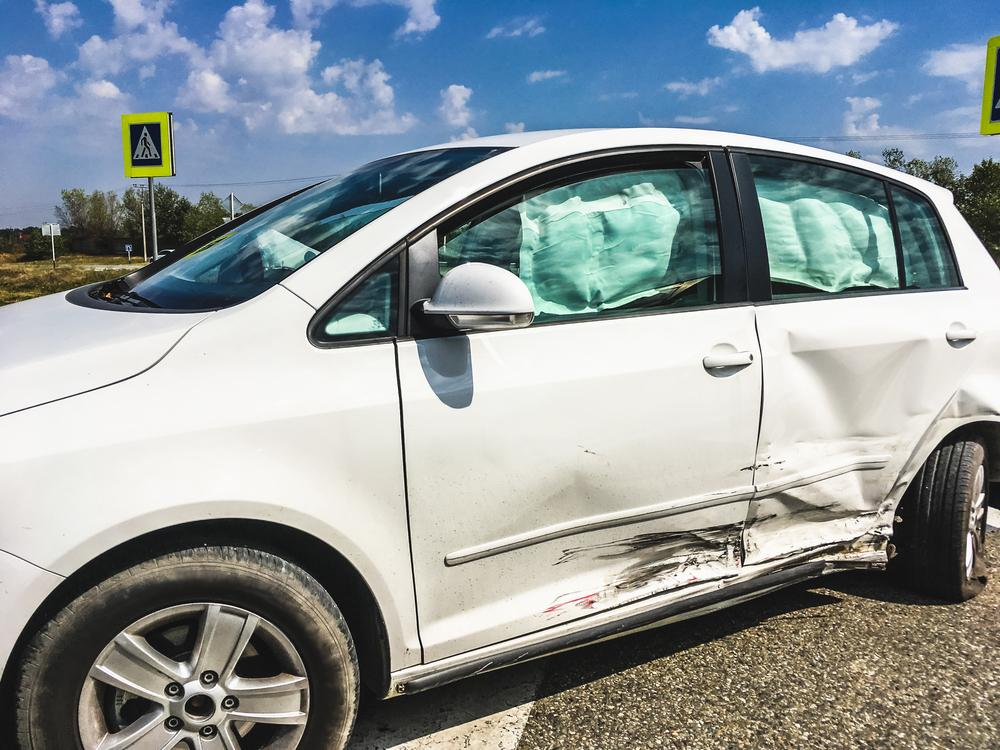dent: (751, 332, 940, 546), (523, 480, 739, 599), (895, 391, 997, 508)
tire flat: (895, 432, 992, 601)
